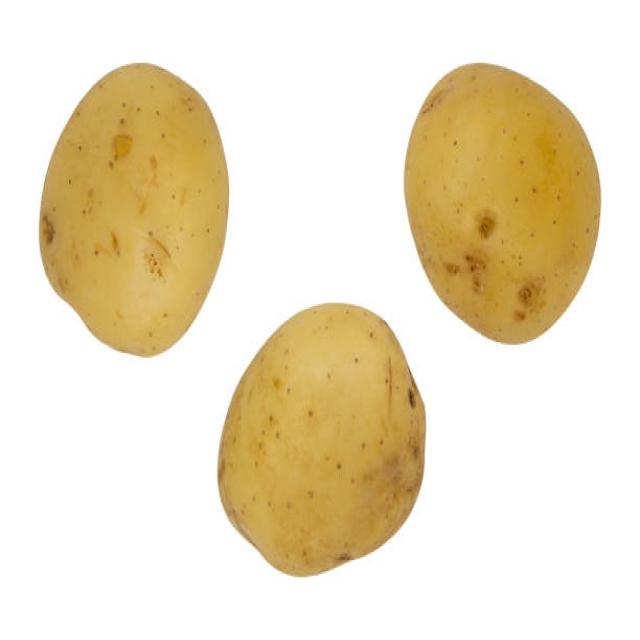Potato: (215, 298, 428, 584), (406, 52, 604, 350), (39, 56, 231, 356)
